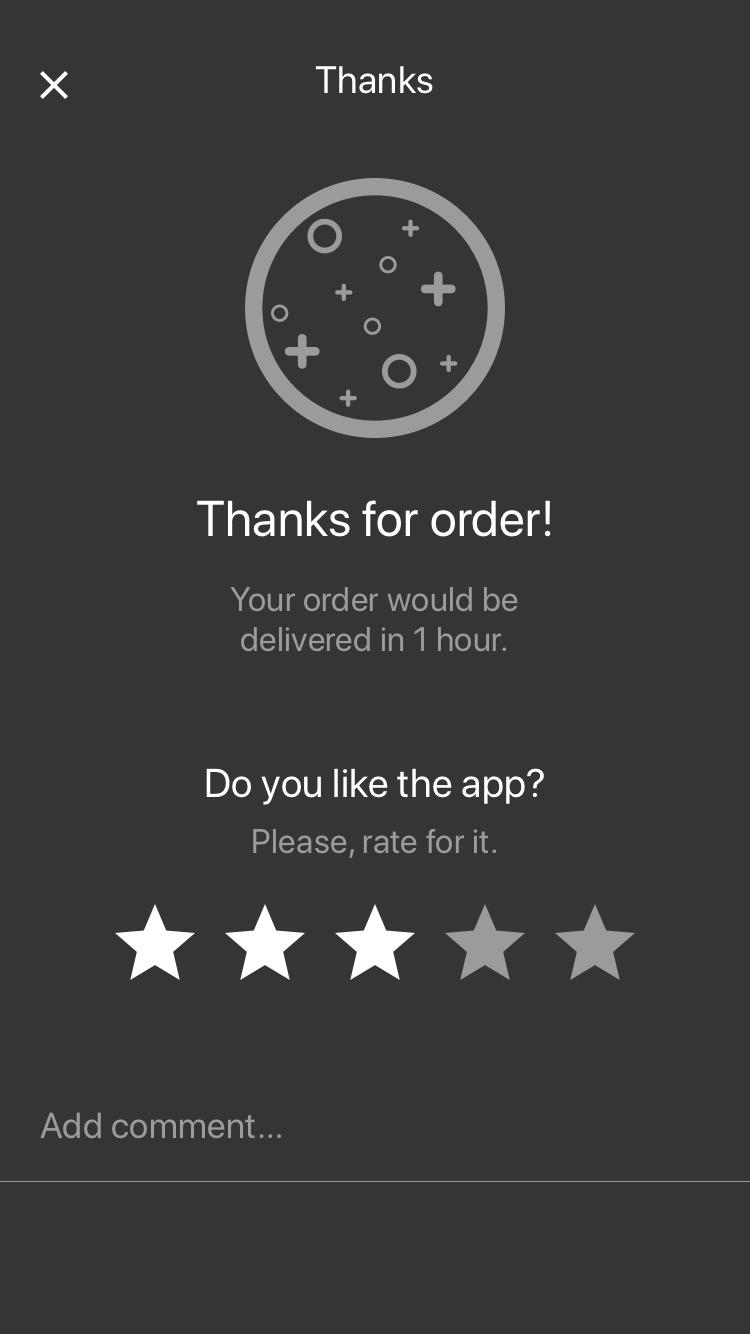Icon: (115, 904, 638, 982), (39, 71, 71, 100)
Image: (246, 178, 506, 439)
Text: (229, 586, 518, 654), (197, 500, 552, 538), (206, 768, 545, 804), (252, 828, 498, 858), (41, 1111, 284, 1139), (314, 66, 434, 96)
